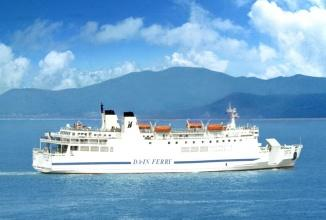youlun: (17, 101, 310, 172)
